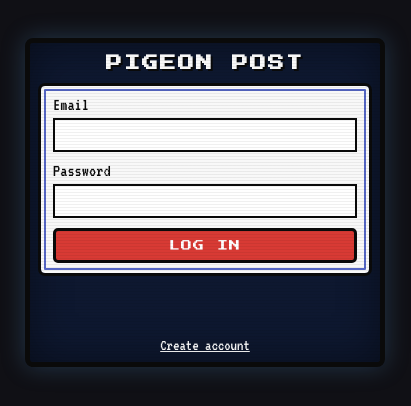
Scenario: shows an error when login is rejected
Type "a@b.com" into the field labelled "Email".
click(205, 134); type("a@b.com")  # box [53,118,357,152]
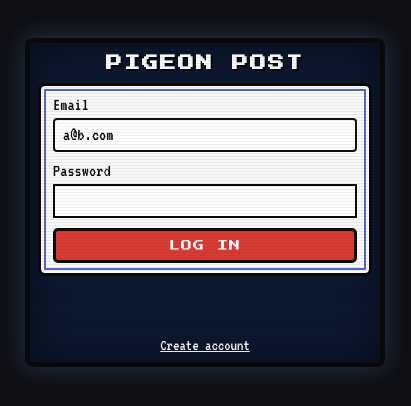
Type "x" into the password field labelled "Password".
click(205, 200); type("x")  # box [53,184,357,218]
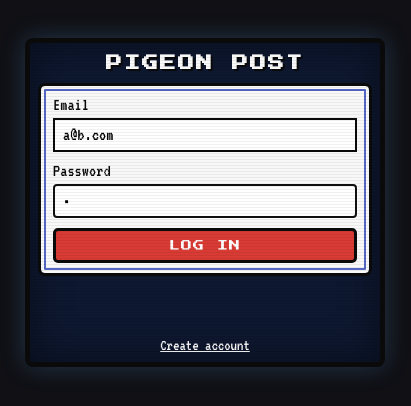
Click the button "LOG IN".
click(205, 245)  # box [53,228,357,262]
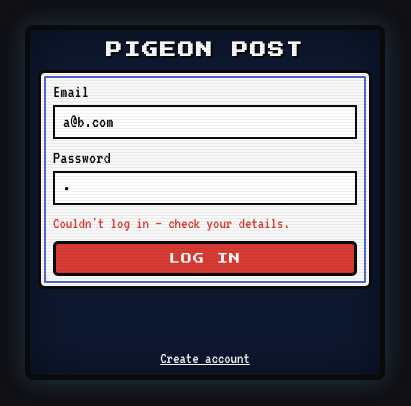
Expected: the text "Couldn't log in — check your details." is shown, [53,214,290,230]
